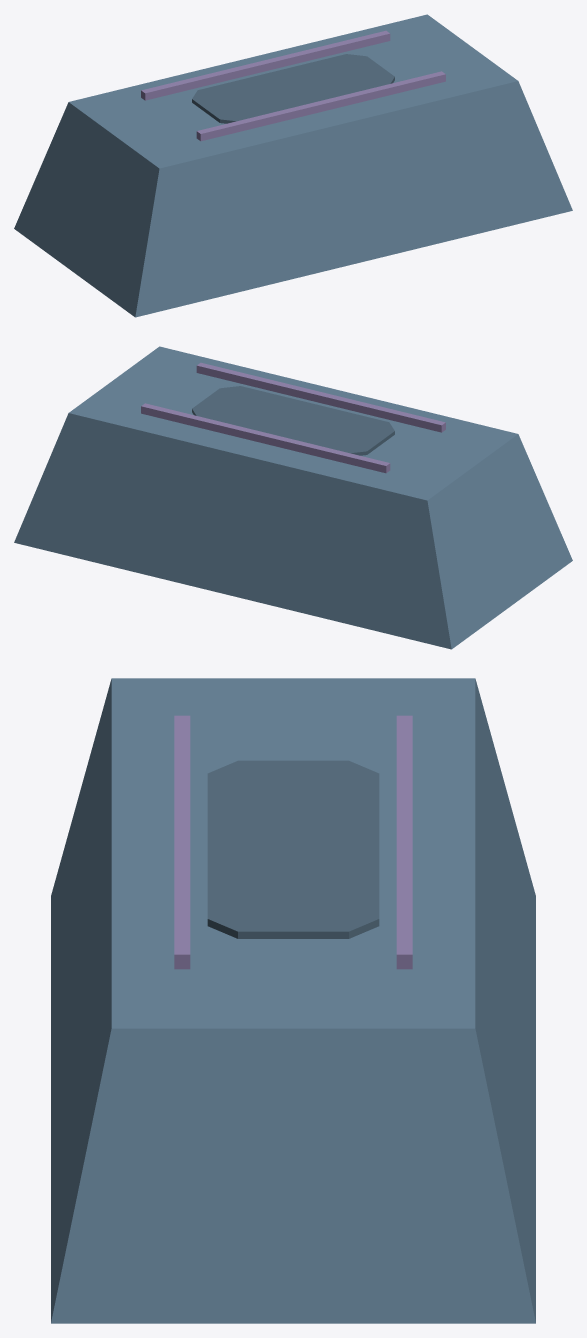
Rendered from alloy_bar.glb.
3 views of the same model, one above another, from view 1: azimuth 30°, elevation 25°; view 2: azimuth 150°, elevation 25°; view 3: azimuth 270°, elevation 25° (orthographic). The views are drawn at different scales.
Parts seen in each view (by area): view 1: geometry; view 2: geometry; view 3: geometry.
Part boxes in pixels (bbox=[...]): geometry: bbox=[14, 14, 572, 317]; geometry: bbox=[14, 346, 572, 649]; geometry: bbox=[51, 678, 535, 1323].
Size of the model in its own units: 0.5 by 0.15 by 0.24.
